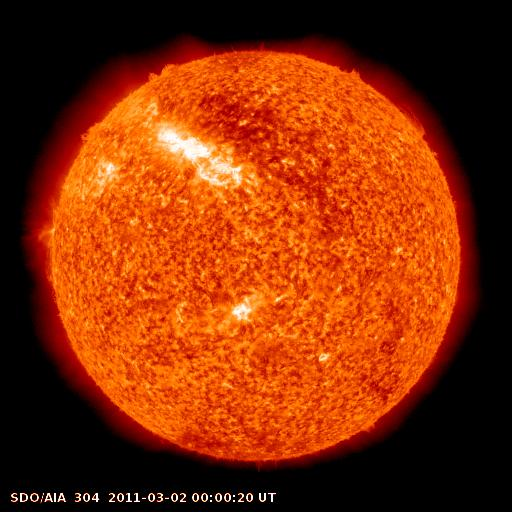prominence: (390, 93, 434, 144), (137, 54, 185, 93), (65, 115, 109, 152)
